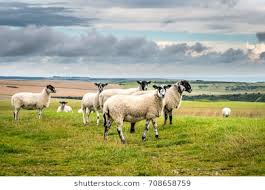sheep: (103, 82, 168, 144), (10, 84, 57, 120), (80, 81, 108, 125), (167, 78, 194, 119), (56, 100, 73, 114), (221, 105, 232, 118)
